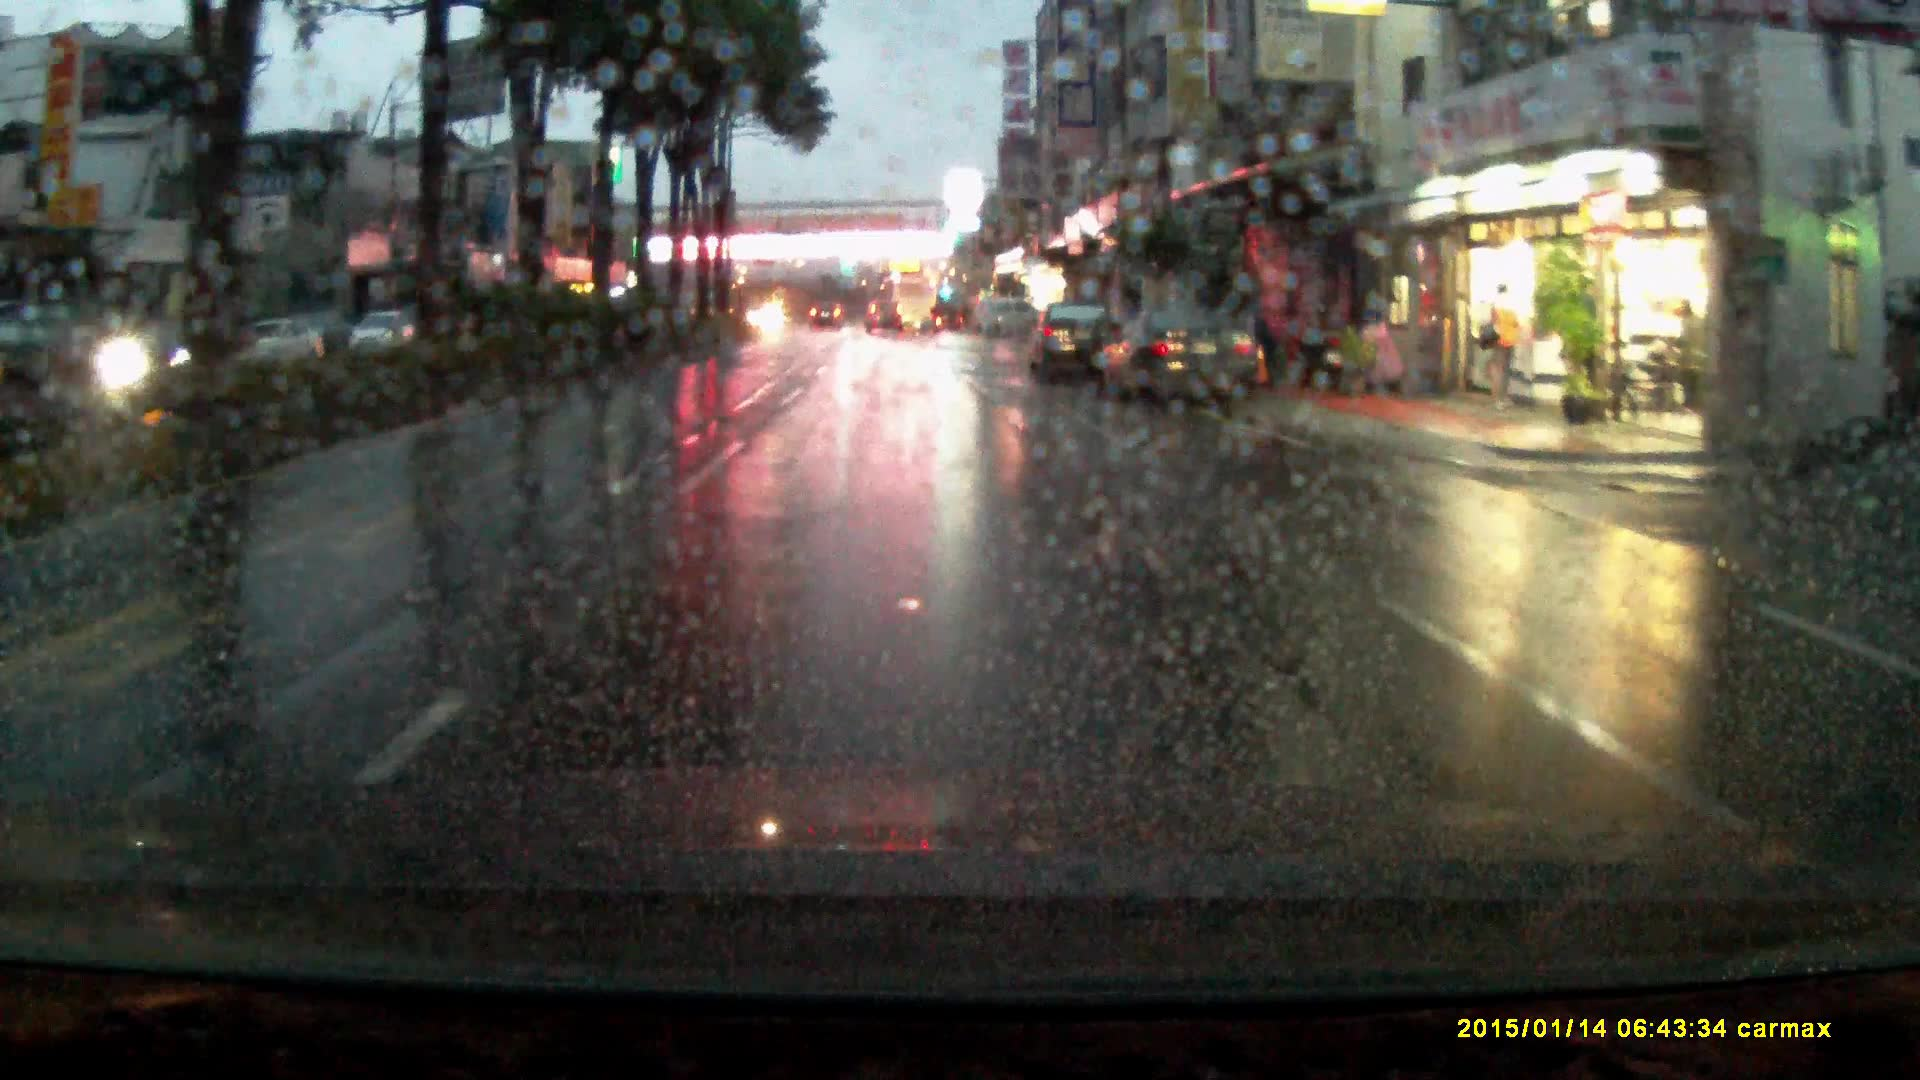vehicle: (1092, 306, 1265, 406), (1029, 303, 1120, 386), (219, 320, 324, 375), (972, 298, 1044, 342), (882, 280, 938, 334), (349, 311, 415, 355), (864, 303, 905, 335), (808, 301, 848, 330)
